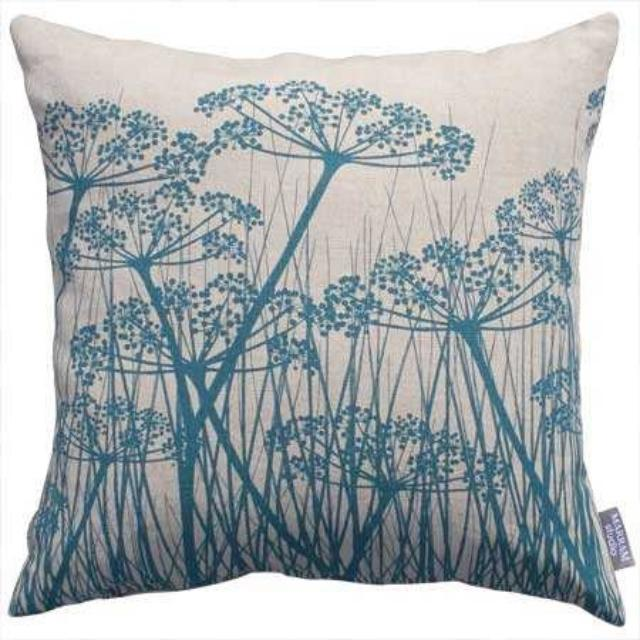pillow: (6, 11, 626, 626)
